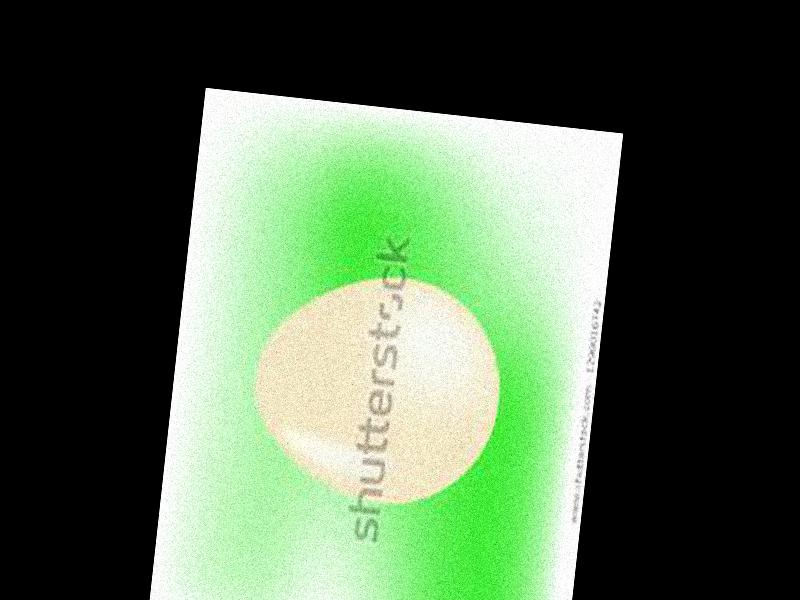Eggs: (243, 262, 510, 513)
